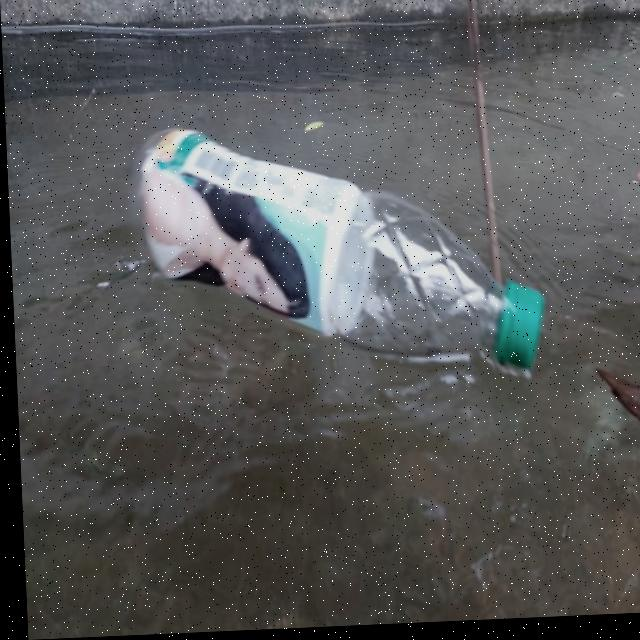waterbottle: (120, 94, 564, 406)
